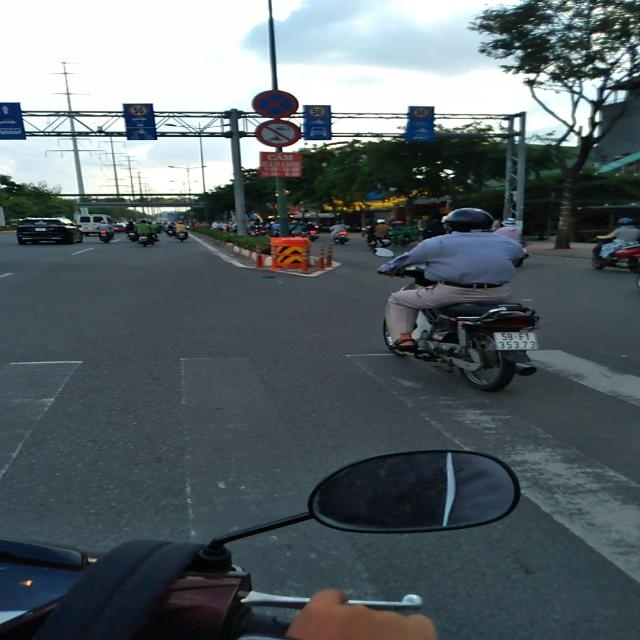bien_cam: (251, 90, 299, 118), (128, 104, 149, 117), (308, 106, 327, 118), (412, 107, 432, 118)
